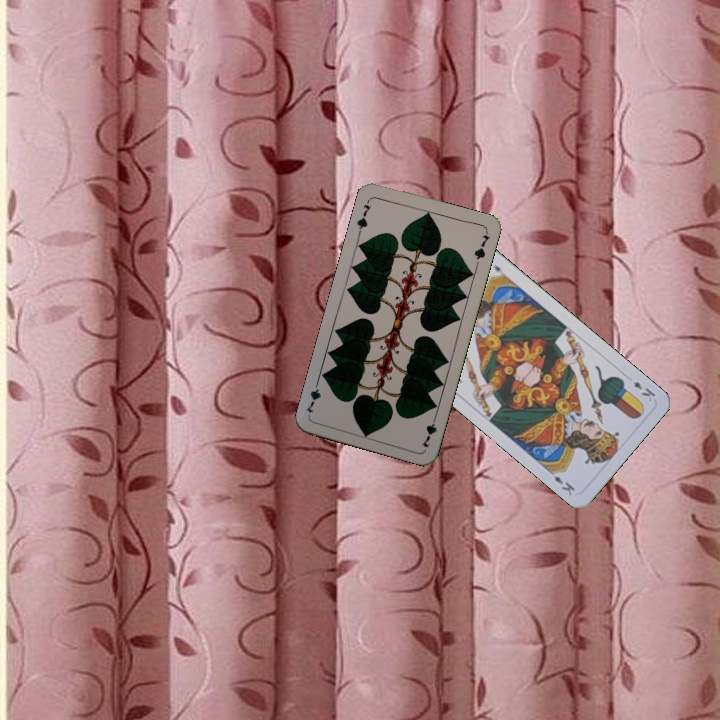EK: (629, 377, 658, 404)
G7: (418, 410, 440, 450), (353, 196, 374, 236)
